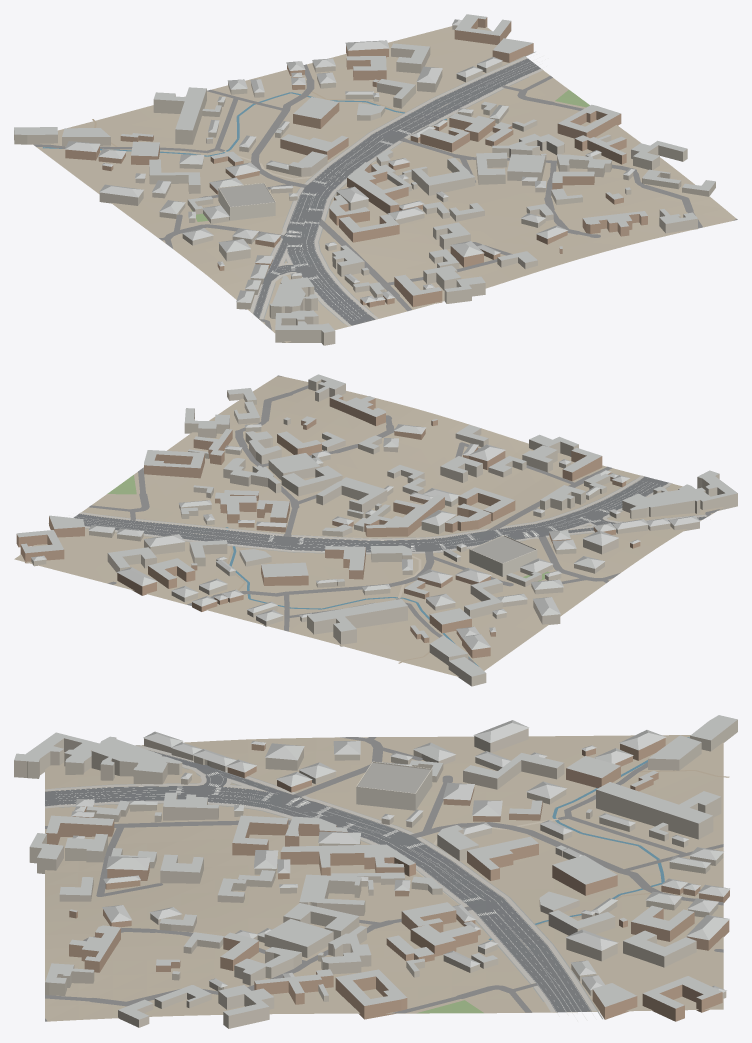
File: bolak_5_-6.glb
The picture shows the model from 3 angles, top to bottom: view 1: azimuth 30°, elevation 25°; view 2: azimuth 150°, elevation 25°; view 3: azimuth 270°, elevation 25°; orthographic projection. The views are drawn at different scales.
Parts seen in each view (by area): view 1: Yer_Tuproq-col, Tom_Shifer, Devor_Suvoq-col, Devor_Gisht-col, Yol_Asfalt-col, Yol_Mahalla-col, Trotuar, Yol_Chiziq, Devor_Jamoat-col, Tom_Tekis, Ariq, Suv; view 2: Yer_Tuproq-col, Tom_Shifer, Devor_Suvoq-col, Devor_Gisht-col, Yol_Asfalt-col, Yol_Mahalla-col, Trotuar, Yol_Chiziq, Devor_Jamoat-col, Tom_Tekis, Ariq, Suv; view 3: Yer_Tuproq-col, Tom_Shifer, Devor_Suvoq-col, Devor_Gisht-col, Yol_Asfalt-col, Yol_Mahalla-col, Trotuar, Yol_Chiziq, Devor_Jamoat-col, Tom_Tekis, Ariq, Suv (+1 smaller).
Boxes of the visible parts, x1=… form: Yer_Tuproq-col: x1=32, y1=26, x2=736, y2=342; Tom_Shifer: x1=14, y1=14, x2=715, y2=332; Devor_Suvoq-col: x1=14, y1=25, x2=715, y2=345; Devor_Gisht-col: x1=65, y1=17, x2=647, y2=307; Yol_Asfalt-col: x1=253, y1=58, x2=540, y2=325; Yol_Mahalla-col: x1=33, y1=64, x2=737, y2=329; Trotuar: x1=250, y1=56, x2=543, y2=326; Yol_Chiziq: x1=252, y1=54, x2=548, y2=321; Devor_Jamoat-col: x1=218, y1=183, x2=275, y2=220; Tom_Tekis: x1=219, y1=184, x2=274, y2=206; Ariq: x1=263, y1=51, x2=535, y2=323; Suv: x1=43, y1=92, x2=446, y2=156; Yer_Tuproq-col: x1=14, y1=376, x2=723, y2=676; Tom_Shifer: x1=16, y1=374, x2=737, y2=676; Devor_Suvoq-col: x1=31, y1=379, x2=737, y2=686; Devor_Gisht-col: x1=16, y1=396, x2=640, y2=658; Yol_Asfalt-col: x1=73, y1=476, x2=708, y2=552; Yol_Mahalla-col: x1=89, y1=375, x2=719, y2=663; Trotuar: x1=79, y1=475, x2=711, y2=553; Yol_Chiziq: x1=57, y1=477, x2=710, y2=551; Devor_Jamoat-col: x1=469, y1=535, x2=537, y2=576; Tom_Tekis: x1=471, y1=536, x2=535, y2=563; Ariq: x1=48, y1=479, x2=704, y2=554; Suv: x1=225, y1=527, x2=478, y2=666; Yer_Tuproq-col: x1=45, y1=735, x2=723, y2=1021; Tom_Shifer: x1=14, y1=715, x2=737, y2=1019; Devor_Suvoq-col: x1=14, y1=719, x2=737, y2=1028; Devor_Gisht-col: x1=46, y1=738, x2=729, y2=1021; Yol_Asfalt-col: x1=45, y1=750, x2=591, y2=1012; Yol_Mahalla-col: x1=45, y1=737, x2=723, y2=1021; Trotuar: x1=45, y1=745, x2=596, y2=1012; Yol_Chiziq: x1=44, y1=751, x2=596, y2=1021; Devor_Jamoat-col: x1=356, y1=761, x2=432, y2=810; Tom_Tekis: x1=357, y1=763, x2=430, y2=793; Ariq: x1=56, y1=767, x2=602, y2=1019; Suv: x1=488, y1=737, x2=689, y2=940.
Size of what is drawn, in the model's own units: 429 by 28.54 by 427.
